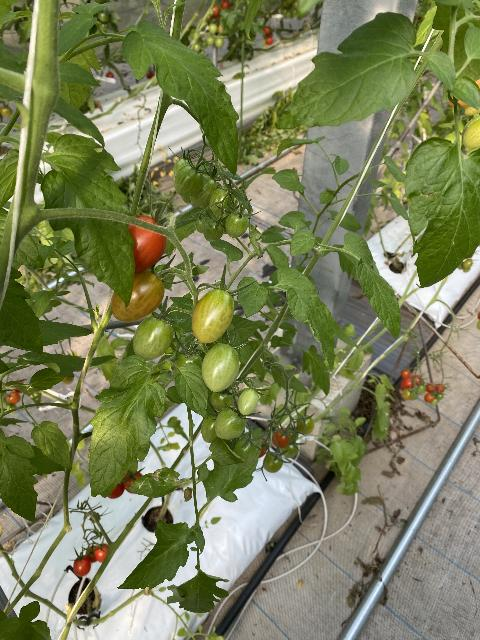l_fully_ripened: (126, 216, 168, 276)
l_green: (132, 314, 174, 361), (201, 342, 240, 392), (214, 407, 247, 440), (206, 185, 235, 220), (190, 173, 218, 208), (174, 165, 204, 197), (173, 350, 203, 380), (210, 386, 237, 413), (233, 439, 257, 468), (225, 210, 248, 238), (237, 387, 259, 416), (204, 217, 225, 243), (201, 413, 218, 443), (174, 157, 196, 180), (196, 217, 209, 233)
l_half_ripened: (110, 270, 165, 322), (191, 287, 234, 343)
